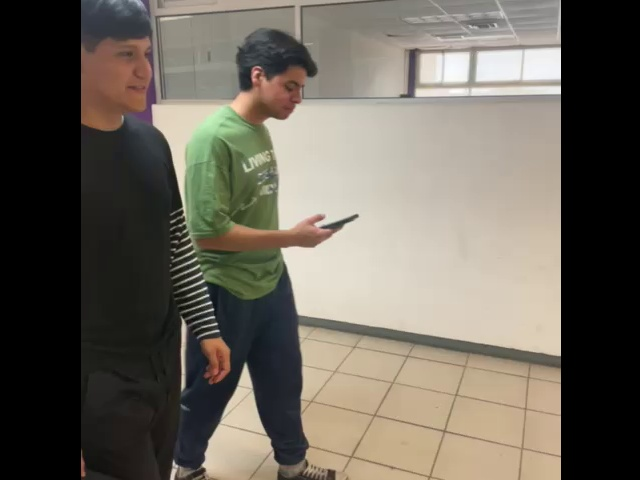mixto2: (319, 209, 362, 233)
